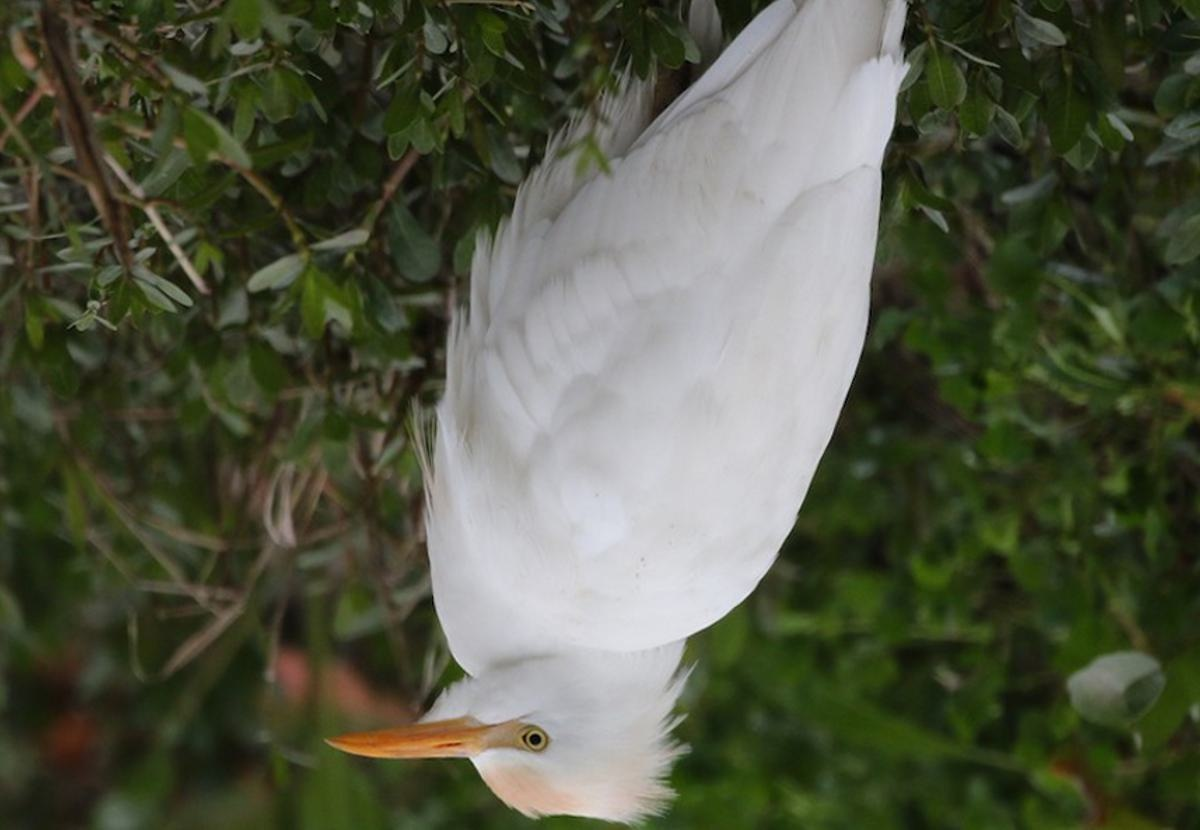egret: (298, 1, 897, 825)
